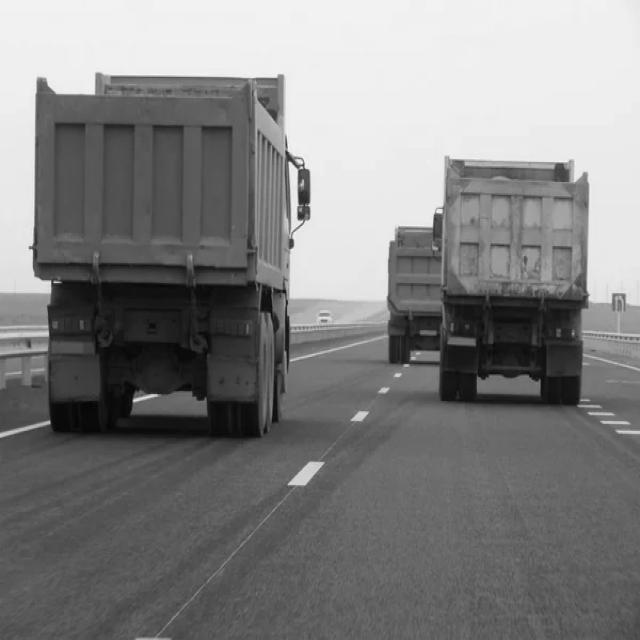Truck: (33, 74, 291, 436), (433, 158, 590, 404), (389, 228, 443, 362)
